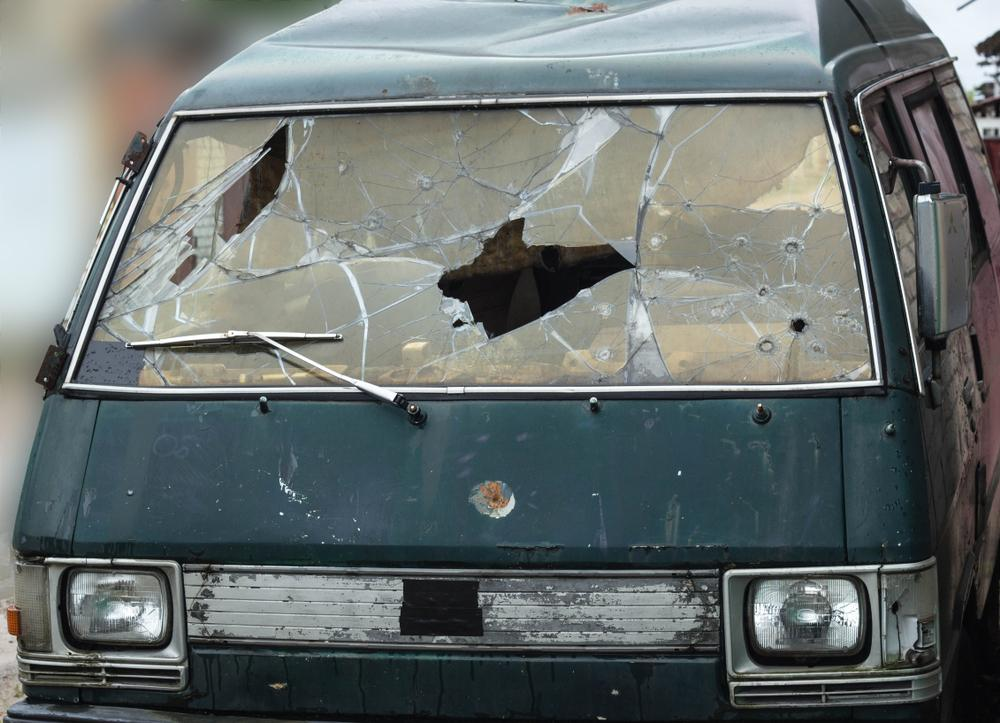dent: (261, 0, 817, 63)
glass shatter: (71, 100, 875, 387)
